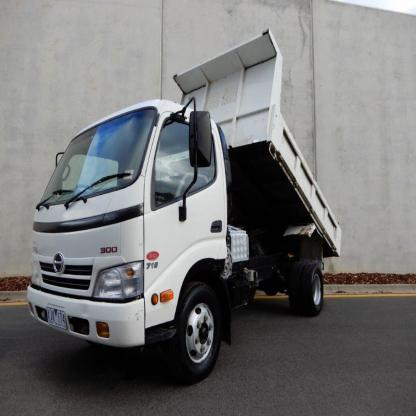dump_truck: (25, 26, 341, 382)
